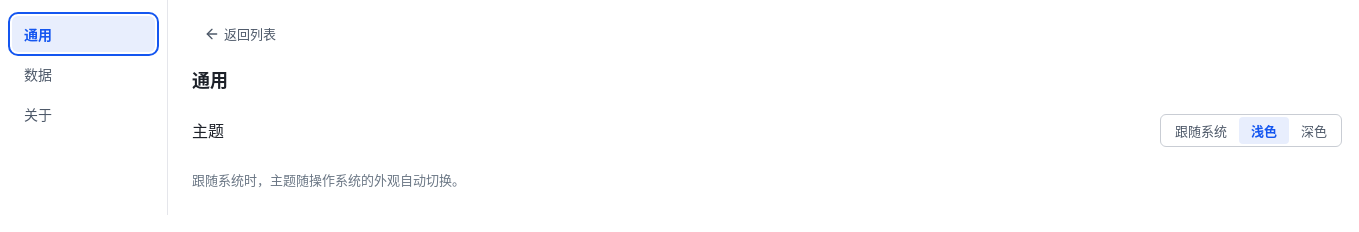
it: SettingsPage 数据 tab (issue #13) › shows an error hint when getState rejects
Click the button with test id "settings-nav-data": (84, 74) [12,56,155,92]
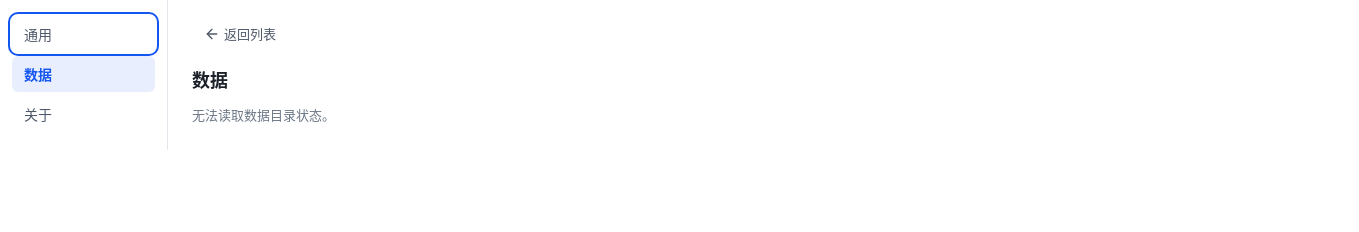
Check: the text "无法读取数据目录状态。" is shown, box [192,107,335,123]
